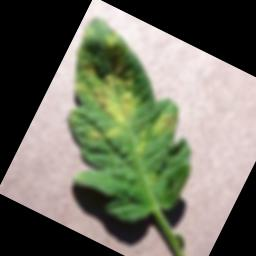Leaf_Mold: (43, 43, 152, 153), (147, 105, 184, 145)
